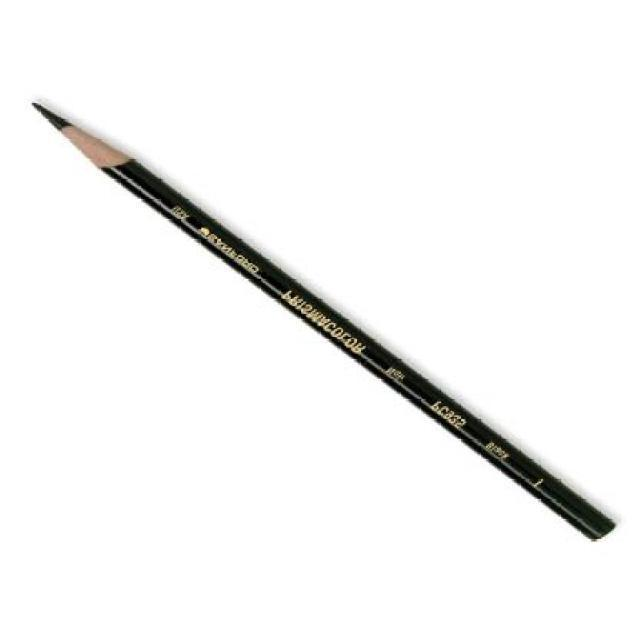pencil: (15, 89, 151, 197)
